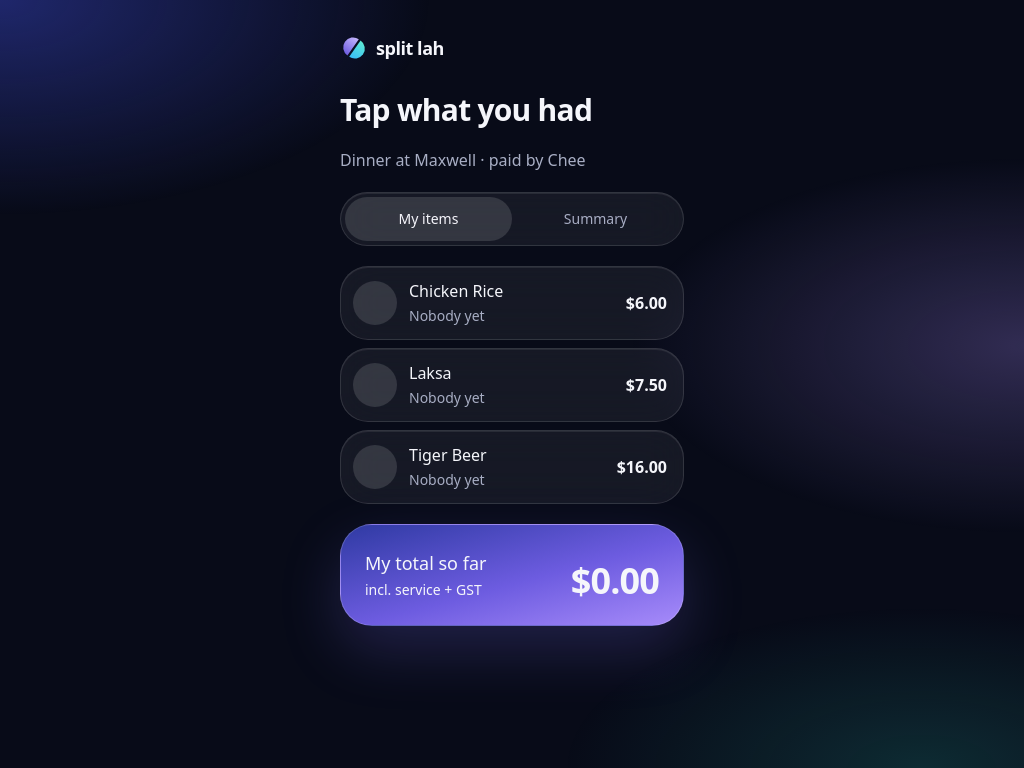
Scenario: Tapping what you had › shows why a tap was refused
What coordinates should you click on to do the following:
click the button "Laksa Nobody yet $7.50"
I would click on:
 (375, 385)
Its box is [340,348,684,422].
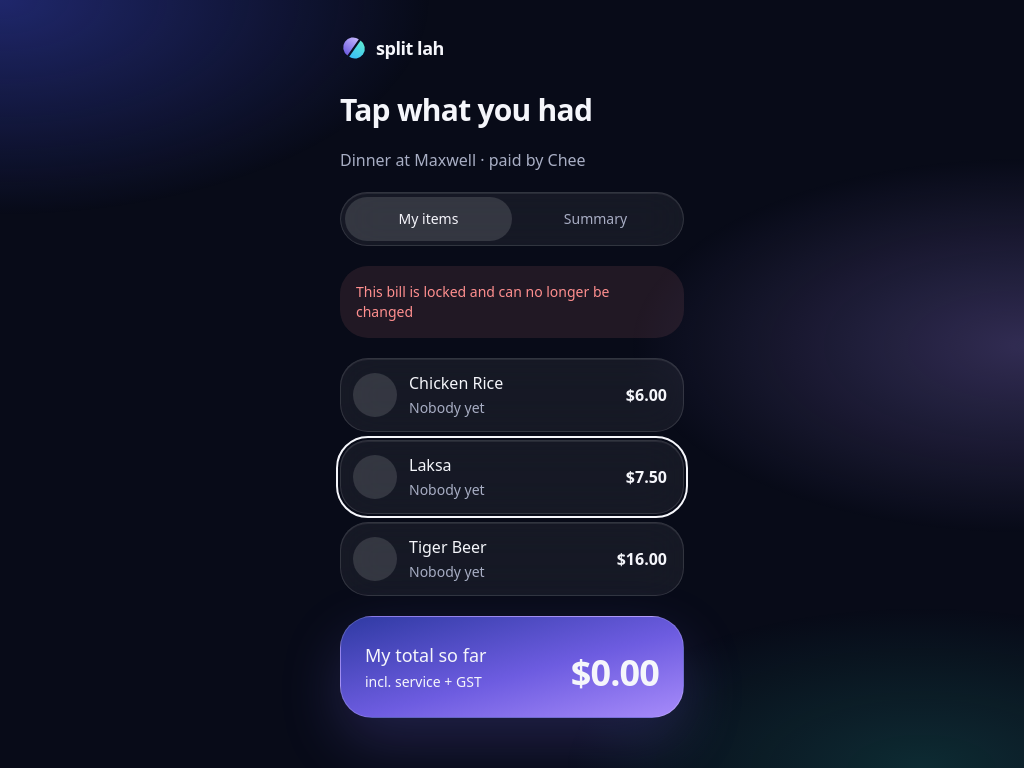
Expected: the message reads "This bill is locked and can no longer be changed", [356,282,609,321]
